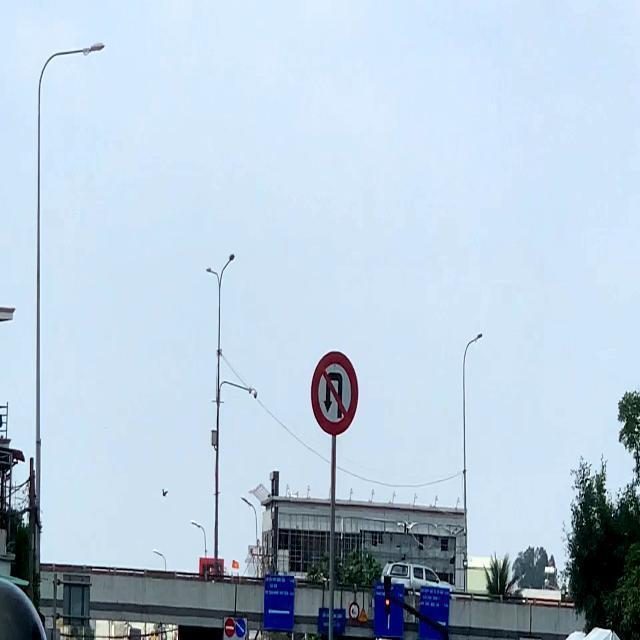124a-cam-quay-dau-xe: (313, 348, 361, 436)
